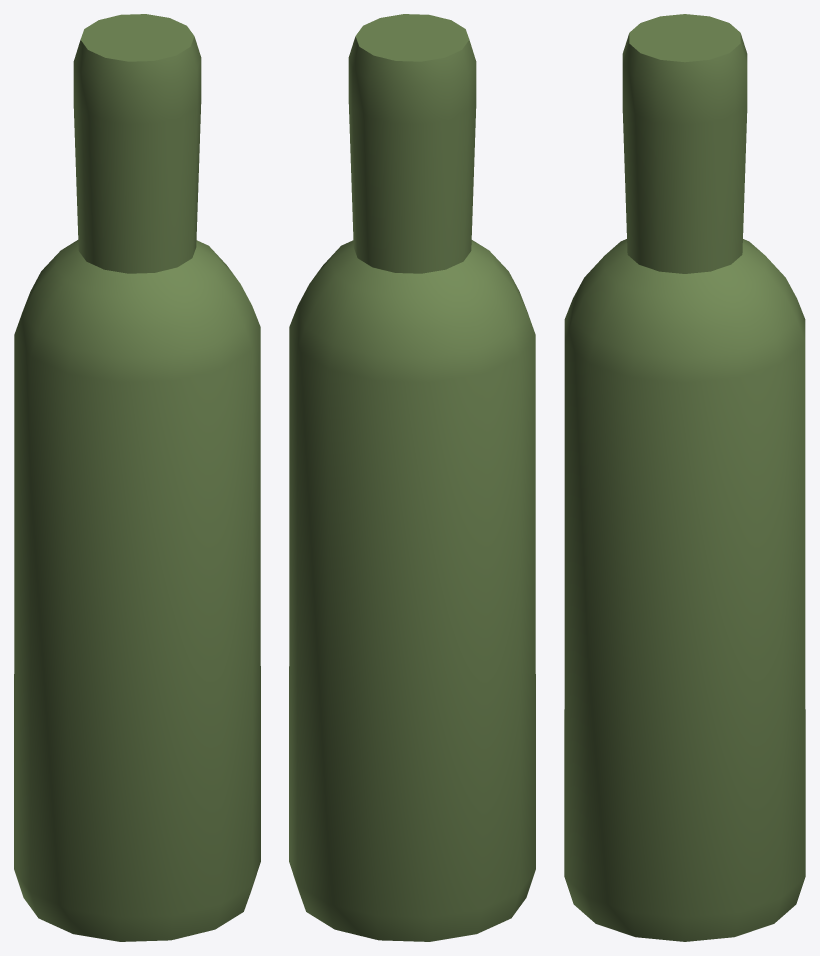
Rendered from bottle_convex.fbx.
The picture shows the model from 3 angles, left to right: view 1: azimuth 30°, elevation 25°; view 2: azimuth 150°, elevation 25°; view 3: azimuth 270°, elevation 25°; orthographic projection.
Parts seen in each view (by area): view 1: bottle_convex, bottle_convex.001; view 2: bottle_convex, bottle_convex.001; view 3: bottle_convex, bottle_convex.001.
Part boxes in pixels (bbox=[...]): bottle_convex: bbox=[14, 240, 260, 941]; bottle_convex.001: bbox=[73, 14, 201, 273]; bottle_convex: bbox=[289, 240, 535, 941]; bottle_convex.001: bbox=[348, 14, 476, 273]; bottle_convex: bbox=[564, 239, 805, 941]; bottle_convex.001: bbox=[622, 14, 747, 273].
Size of the model in its own units: 2.53 by 2.47 by 9.66.
